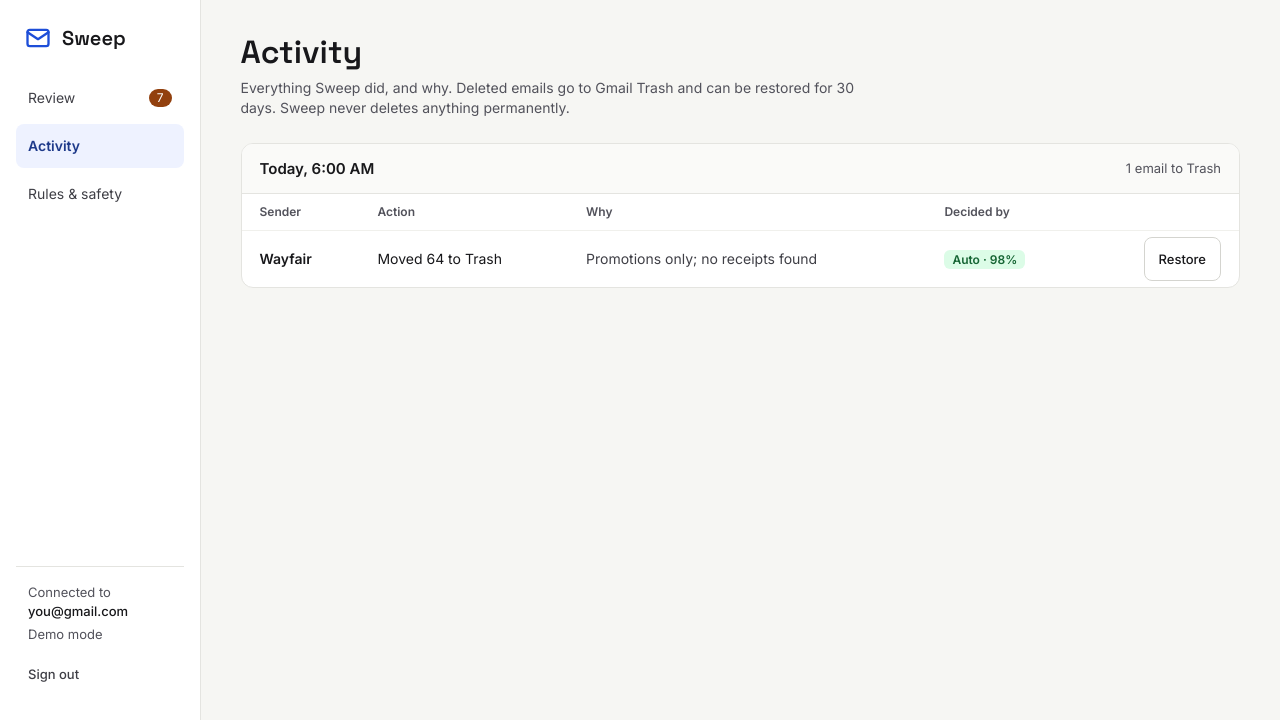
Activity › restores a delete row and shows the restored state from the server
Click the button "Restore": [1182, 259] box [1144,237,1221,281]
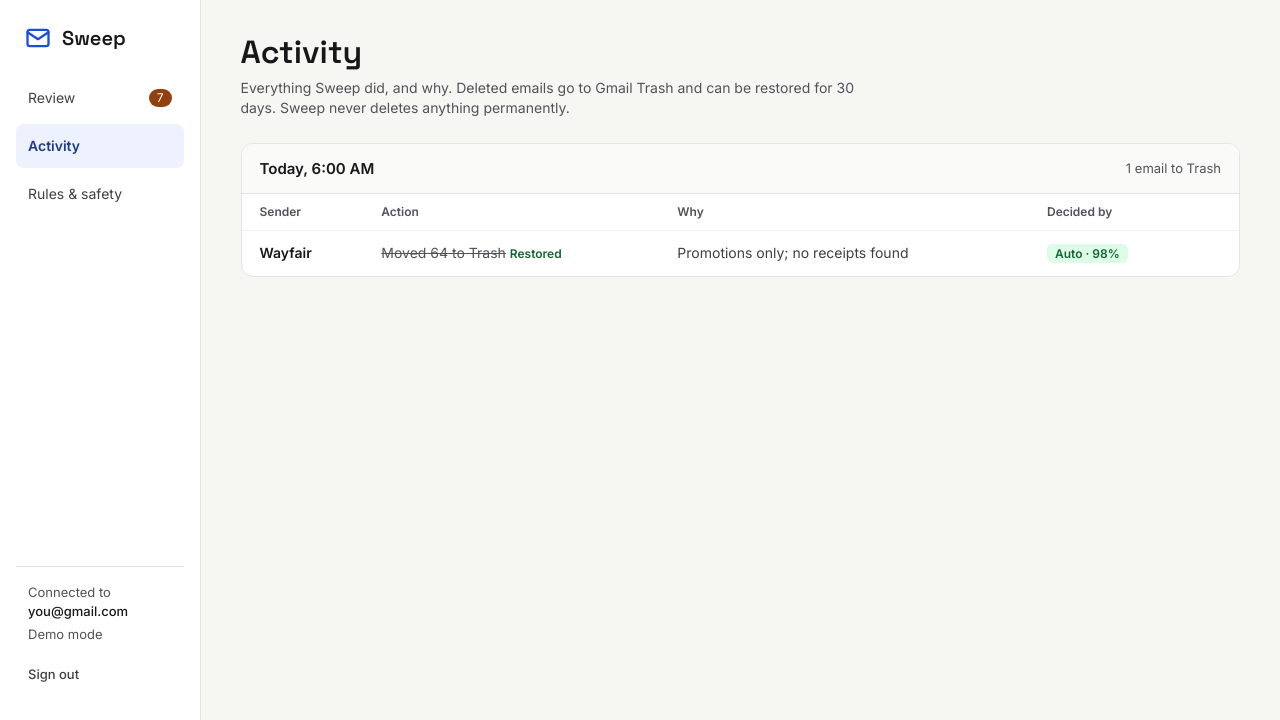
Expected: the text "Restored" is shown, [510,246,562,261]
